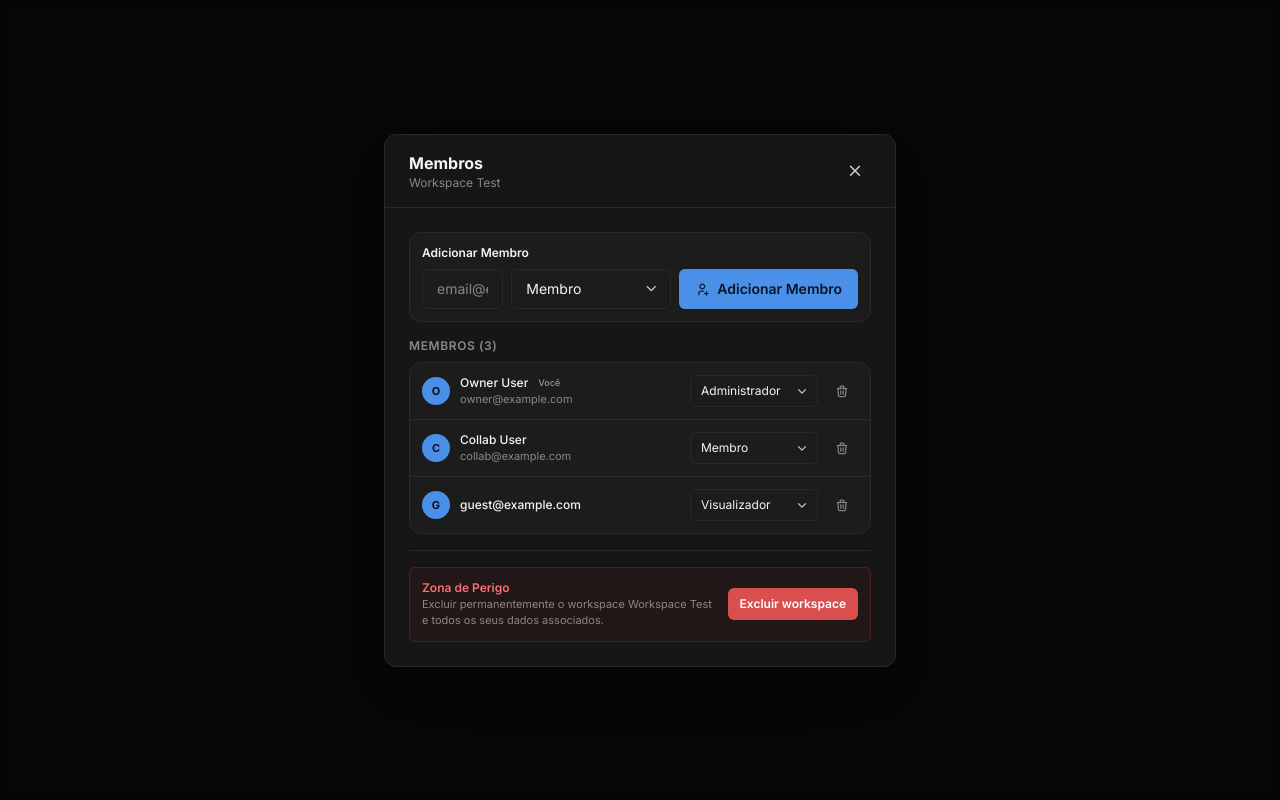
Test: WorkspaceMembersModal › updates member role and handles role change error
Expected: the text "Collab User" is shown, [460,432,527,448]
Select "Administrador" in the dropdown named "Função Collab User": [754, 448] box [690,432,818,464]
Select "Visualizador" in the dropdown named "Função Collab User": [754, 448] box [690,432,818,464]
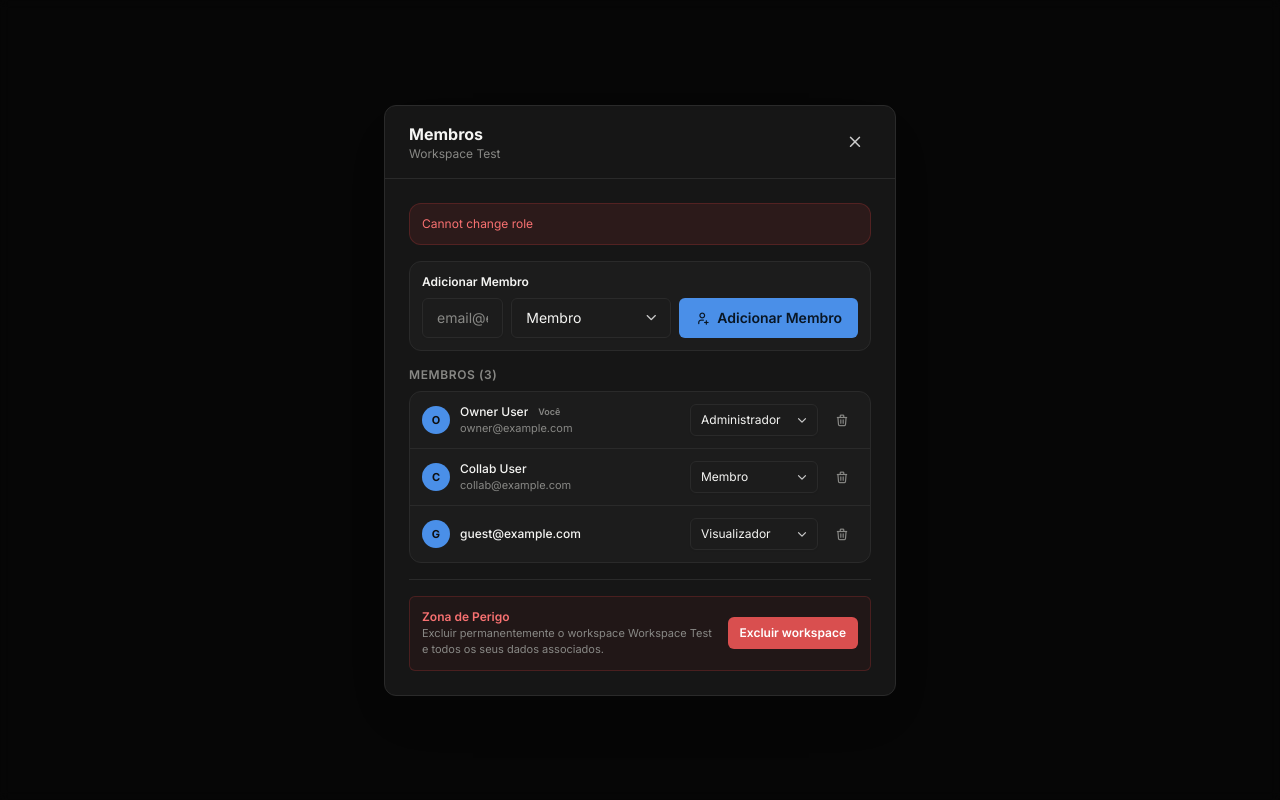
Result: the text "Cannot change role" is shown at [409,202,871,244]
